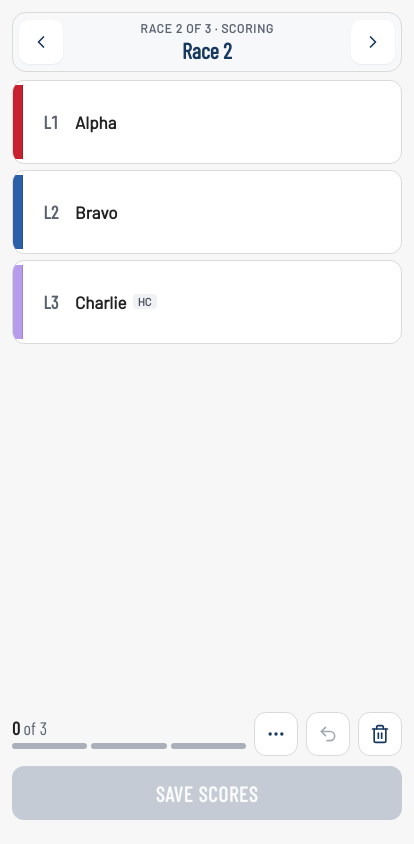
checking the finishing order › lists hatband, team and place once every lane is scored
Click the button with aria-label "Charlie, lane": {"x": 101, "y": 302} [13,261,401,343]
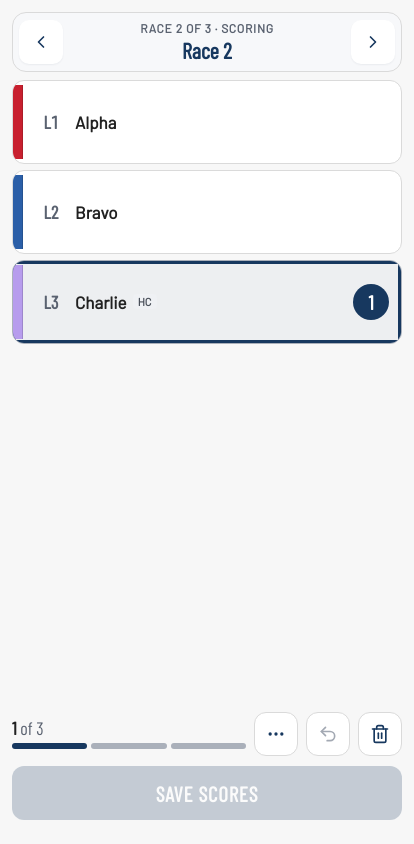
Click the button with aria-label "Bravo, lane": {"x": 96, "y": 212} [13,171,401,253]
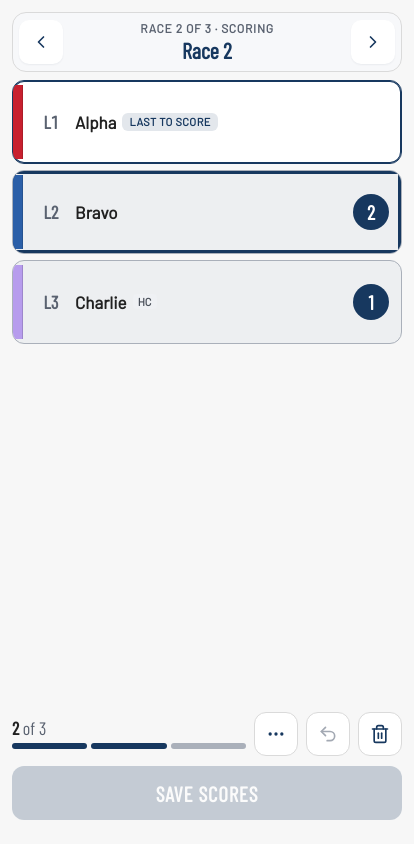
Press Delete in the button with aria-label "Alpha, lane", box [13,81,401,163]
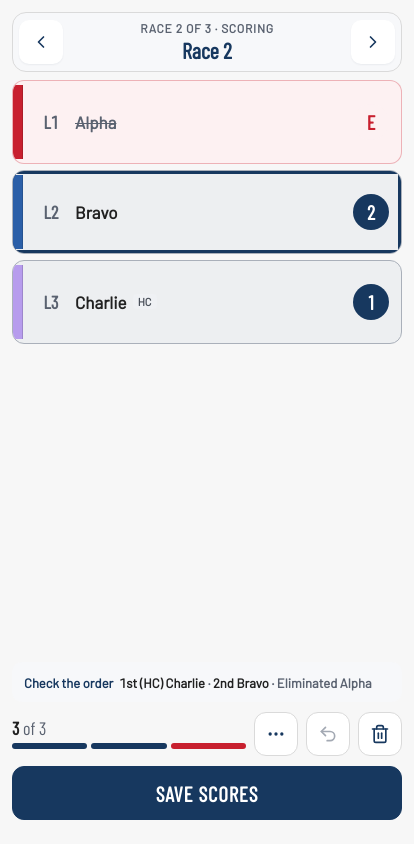
Check: the list items read "1st (HC) Charlie", "2nd Bravo", "Eliminated Alpha", in this order, box [119,675,205,691]; [205,675,269,691]; [269,675,372,691]
Check: the heading "Check the order" is shown, box [24,675,113,691]
